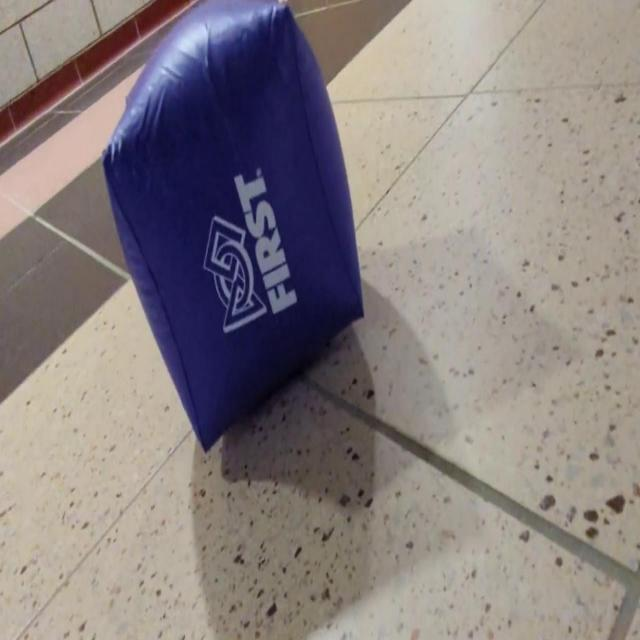frc_cube: (101, 0, 365, 457)
